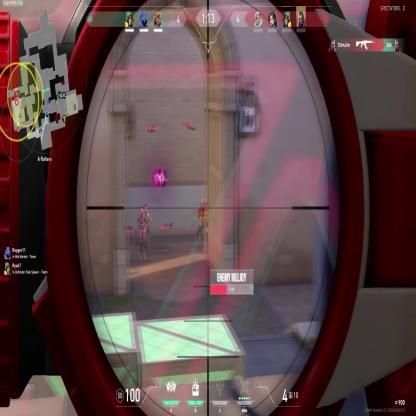enemy: (136, 202, 148, 265), (197, 197, 209, 252)
enemy_head: (201, 199, 207, 209), (140, 206, 144, 214)
